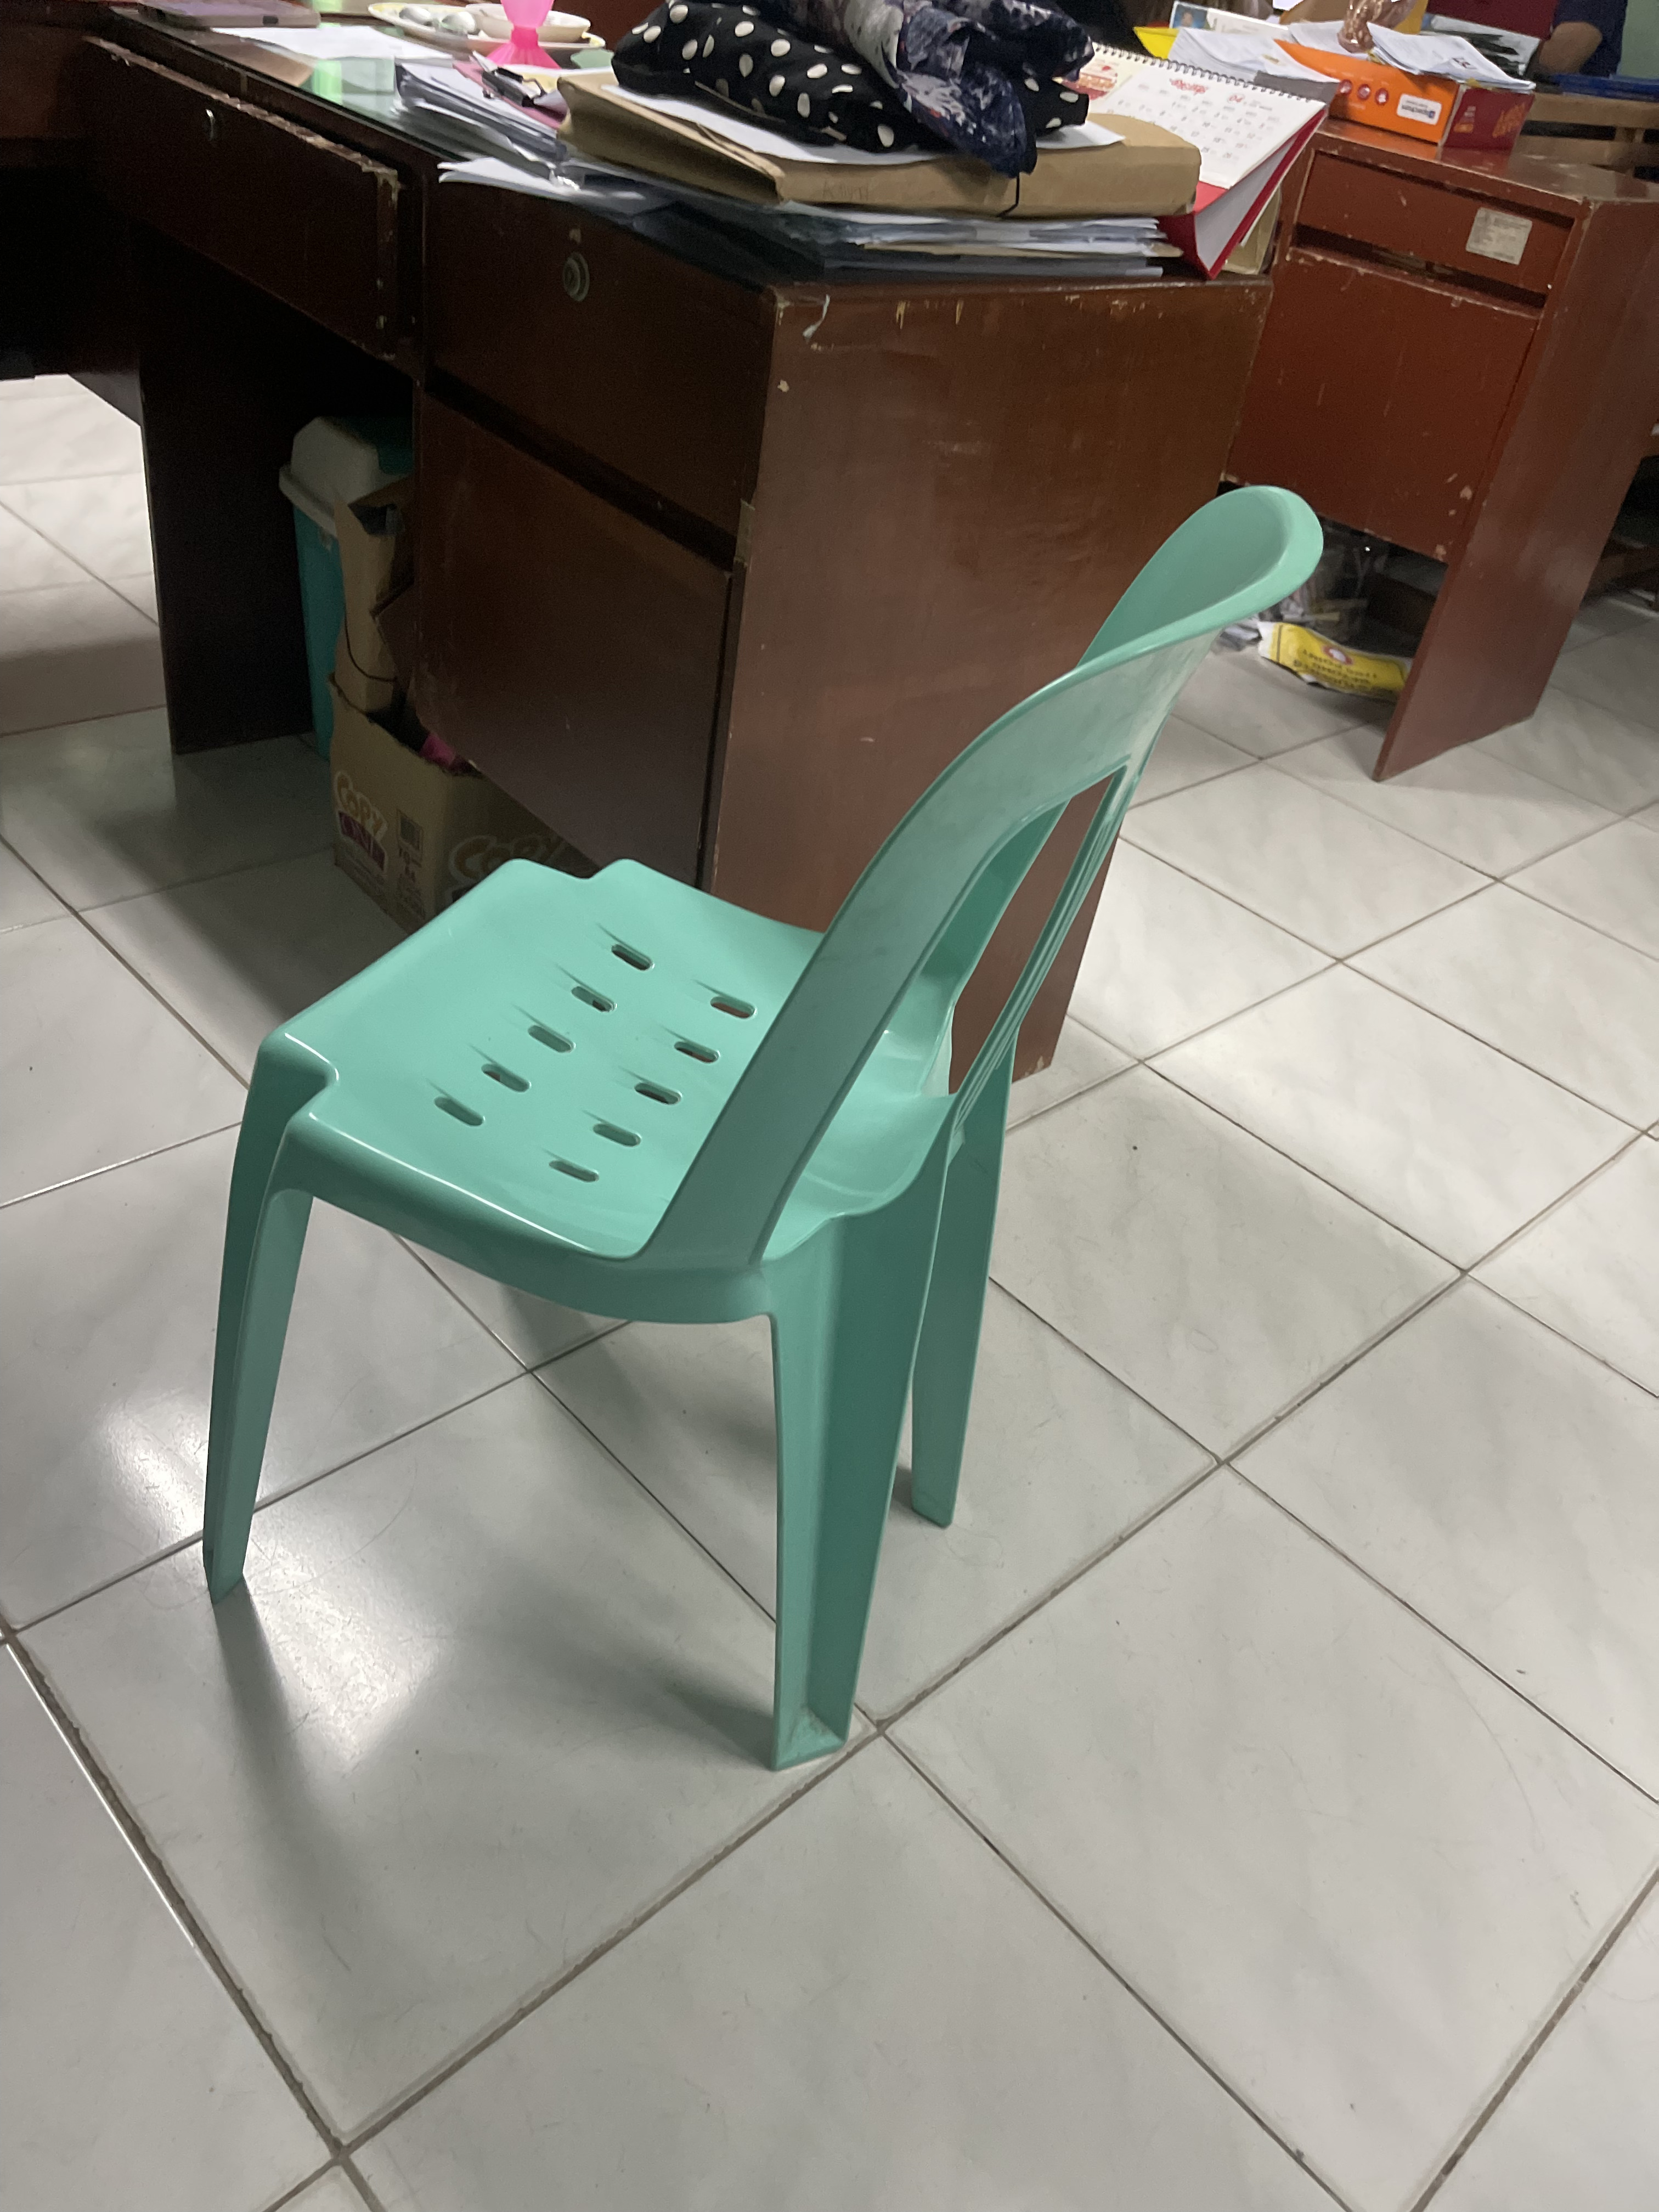chair2: (190, 475, 1333, 1792)
